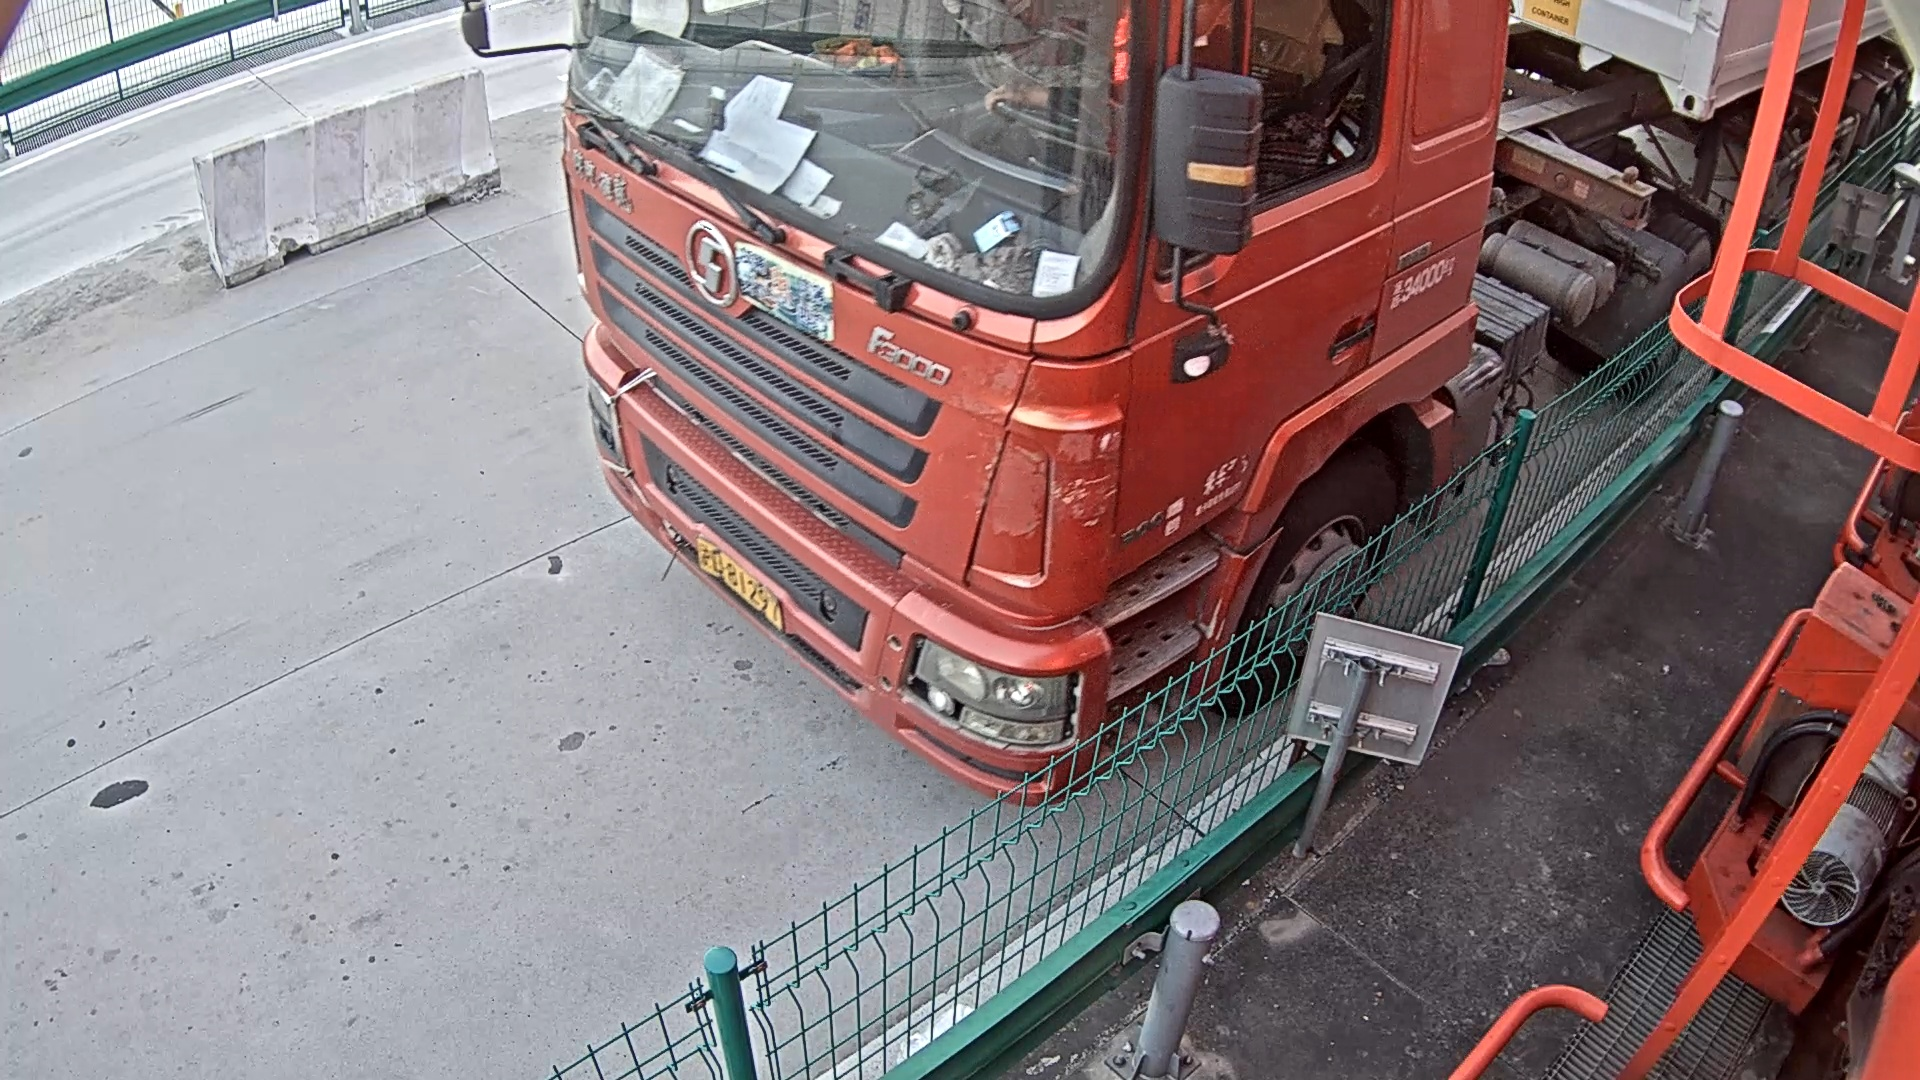head: (549, 9, 1354, 773)
plate: (688, 538, 800, 634)
